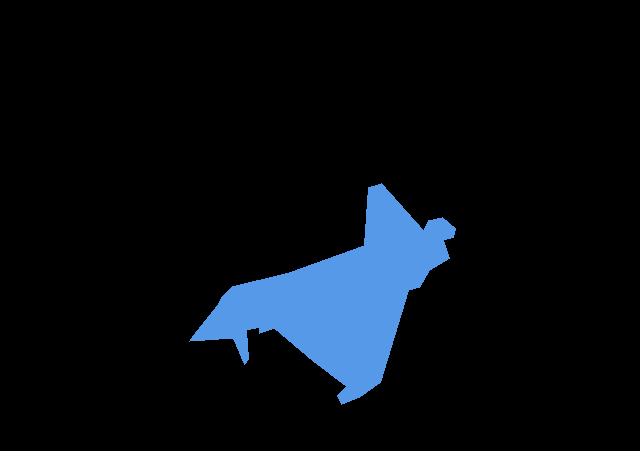Airplane: (189, 183, 456, 405)
